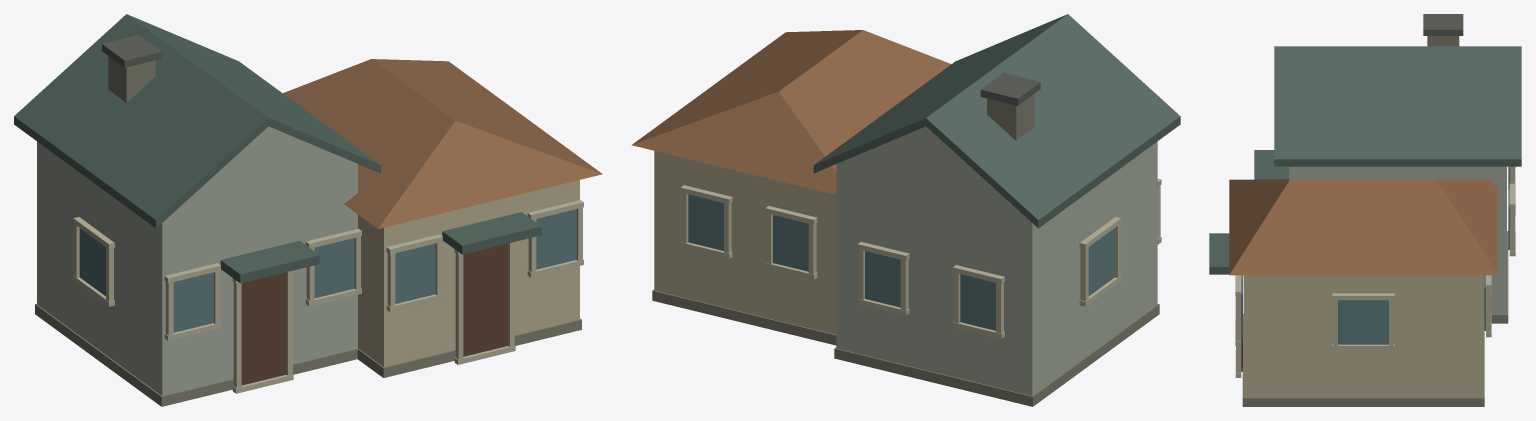
The model's file is Building_Settlement_StaggeredDuplex_001_LOD1.glb.
3 views of the same model, side by side, from view 1: azimuth 30°, elevation 25°; view 2: azimuth 150°, elevation 25°; view 3: azimuth 270°, elevation 25° (orthographic). The views are drawn at different scales.
Parts seen in each view (by area): view 1: Building_Settlement_StaggeredDuplex_001_LOD1; view 2: Building_Settlement_StaggeredDuplex_001_LOD1; view 3: Building_Settlement_StaggeredDuplex_001_LOD1.
Boxes of the visible parts, x1,y1,x2,y2 form: Building_Settlement_StaggeredDuplex_001_LOD1: (14,14,602,406); Building_Settlement_StaggeredDuplex_001_LOD1: (631,14,1180,406); Building_Settlement_StaggeredDuplex_001_LOD1: (1209,14,1521,406).
Size of the model in its own units: 7.95 by 5.06 by 5.88.
